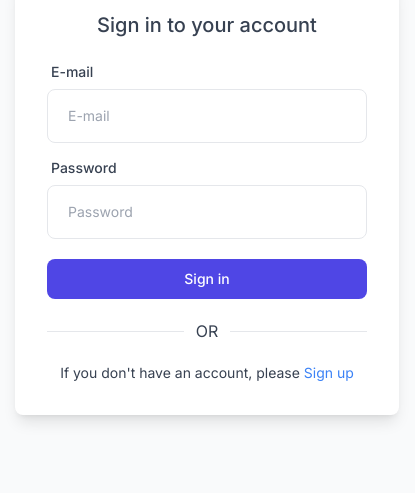
Test: SignInForm › shows correct validation messages
The image size is (415, 493).
Click the button "Sign in": coordinates (207, 279) [47,259,367,299]
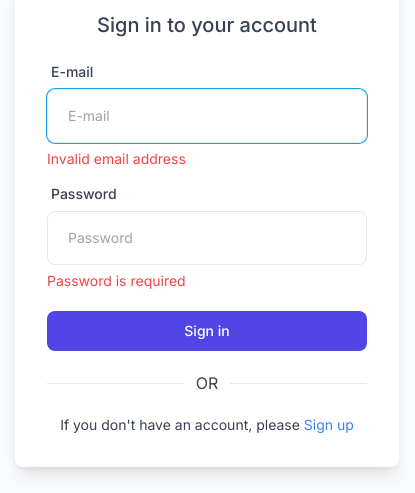
Now the text "Invalid email address" is shown, box [47,150,186,167]
Now the text "Password is required" is shown, box [47,272,186,289]
In the password field labelled "Password": coordinates (207, 238) [47,211,367,265], type "short"
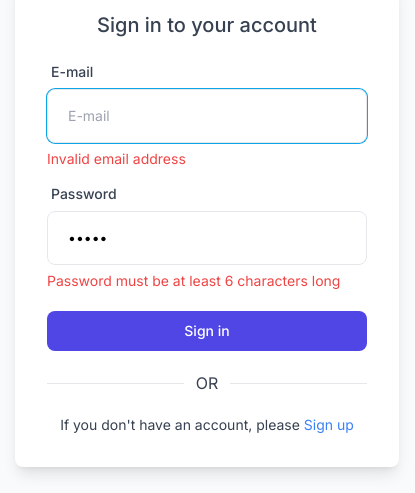
Now the text "Password must be at least 6 characters long" is shown, box [47,271,367,291]
In the field labelled "E-mail": coordinates (207, 116) [47,89,367,143], type "test@example.com"
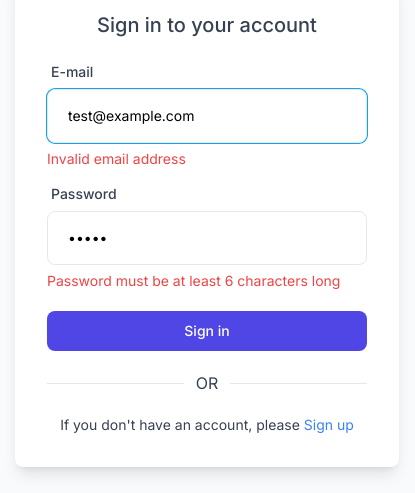
In the password field labelled "Password": coordinates (207, 238) [47,211,367,265], type "password"
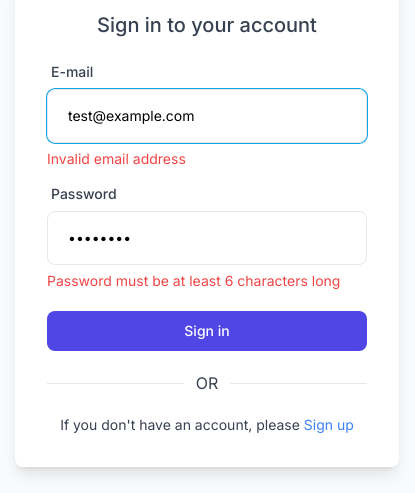
Click the button "Sign in": coordinates (207, 331) [47,311,367,351]
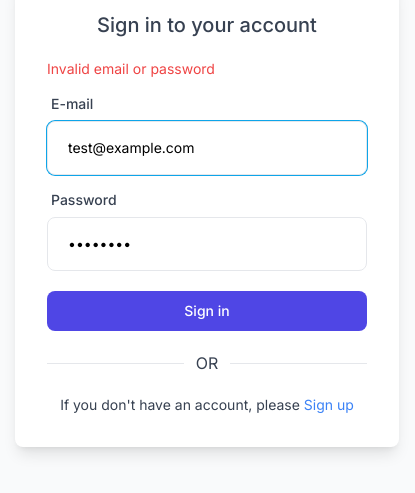
Expected: the text "Password is required" is not shown
Now the text "Invalid email address" is gone
Now the text "Password must be at least 6 characters long" is gone
